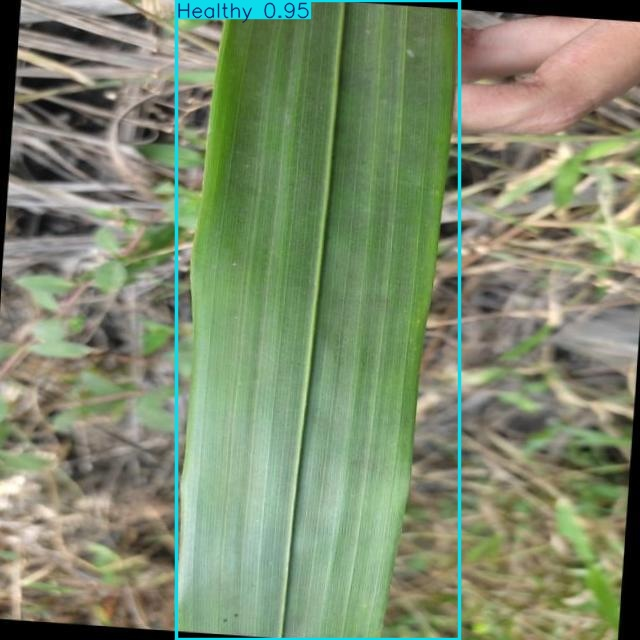Healthy: (176, 0, 460, 640)
